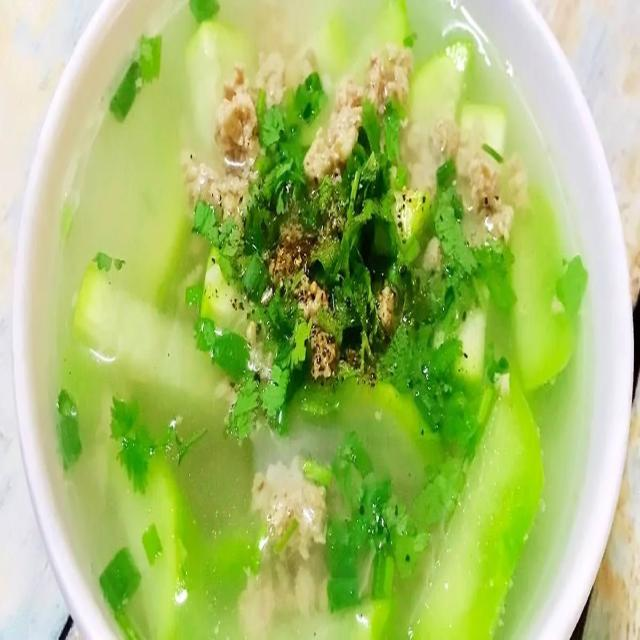canh bau: (55, 0, 586, 639)
